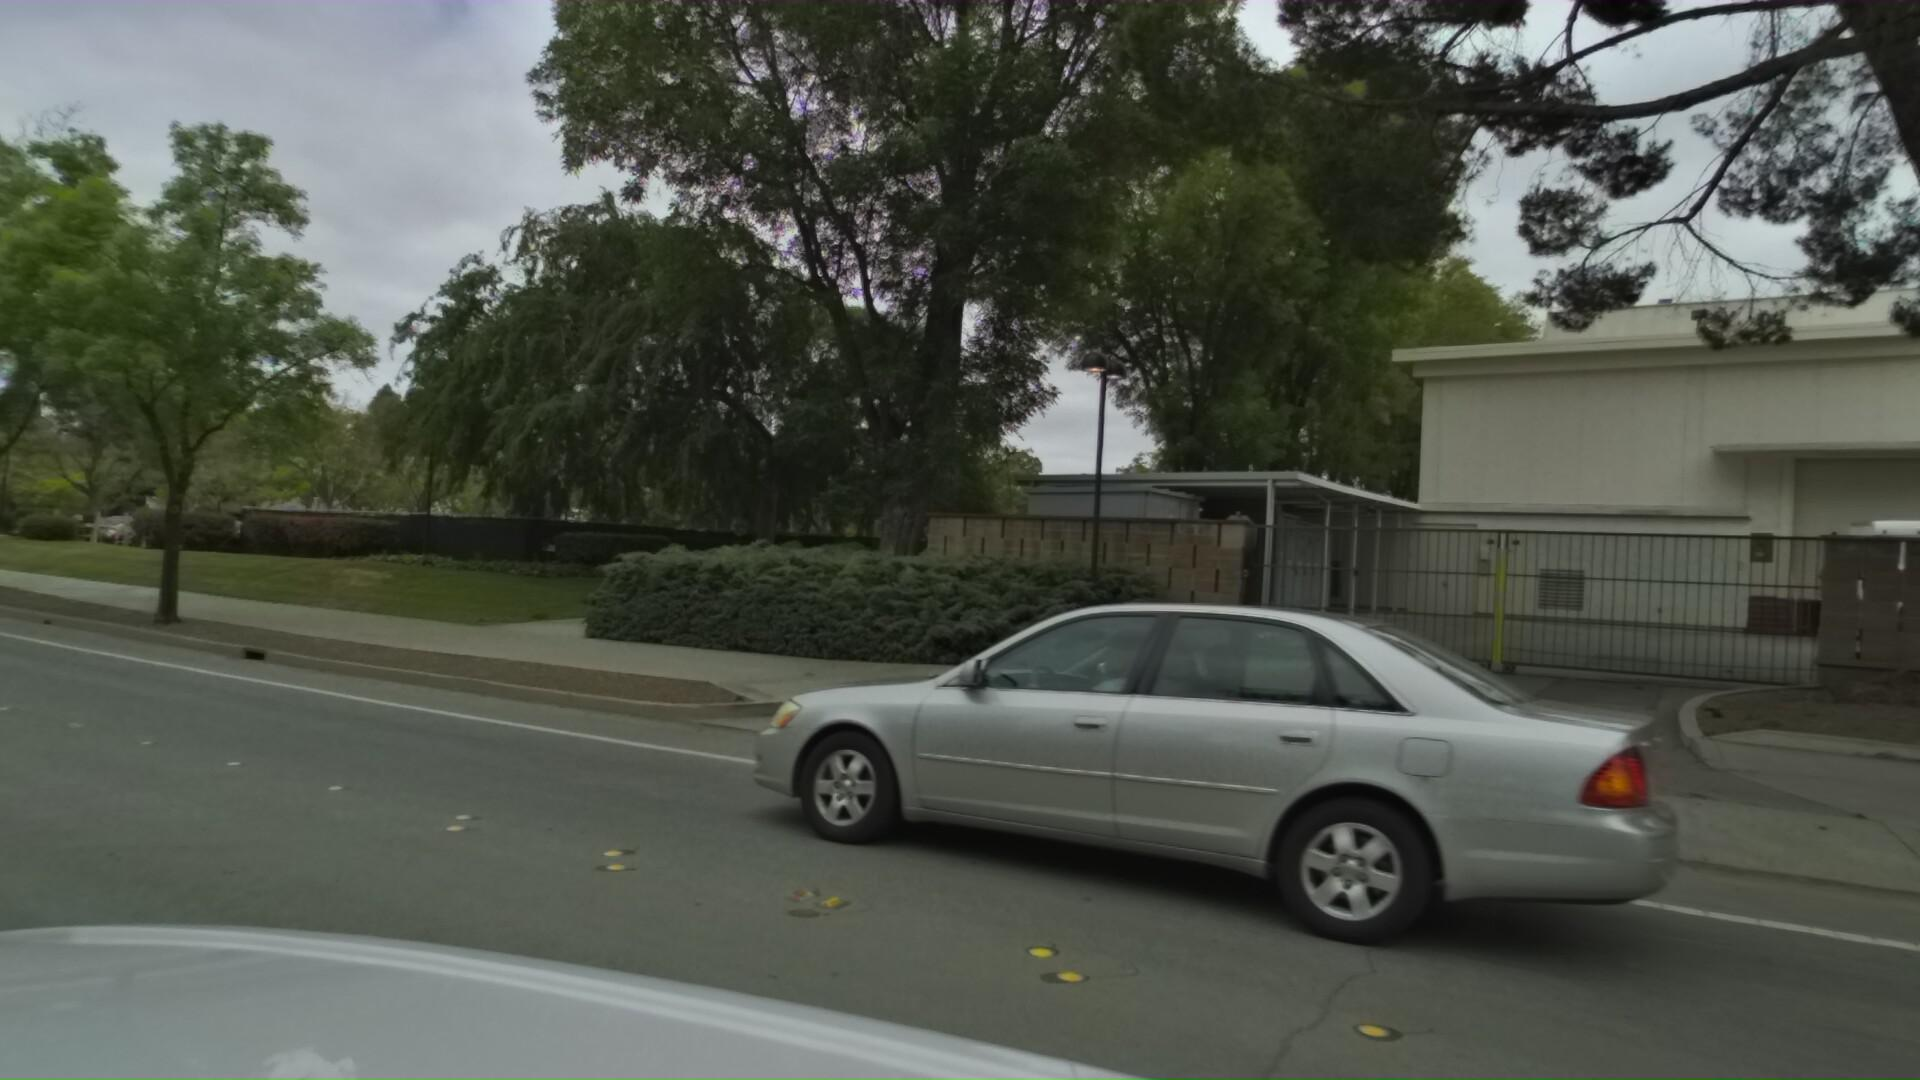car: (550, 529, 1437, 1002)
truck: (1800, 500, 1920, 662)
